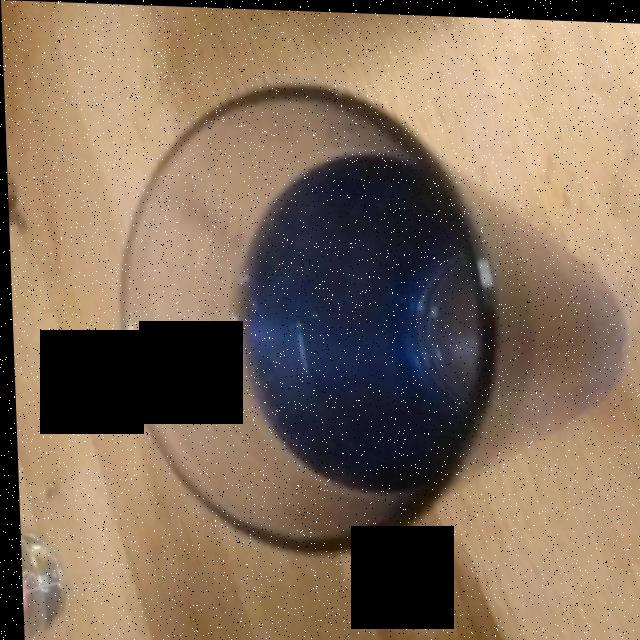water: (237, 159, 475, 509)
